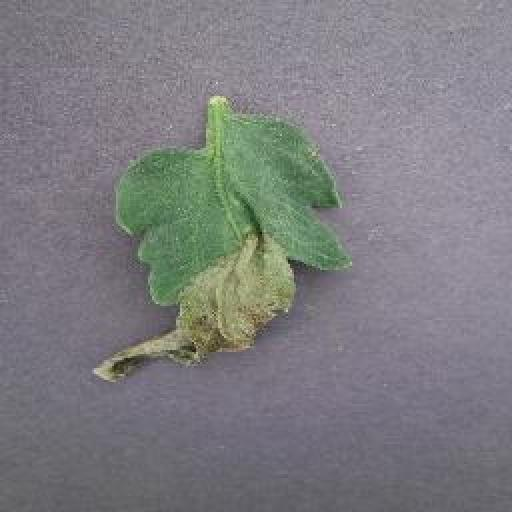disease_tomato: (92, 115, 353, 384)
